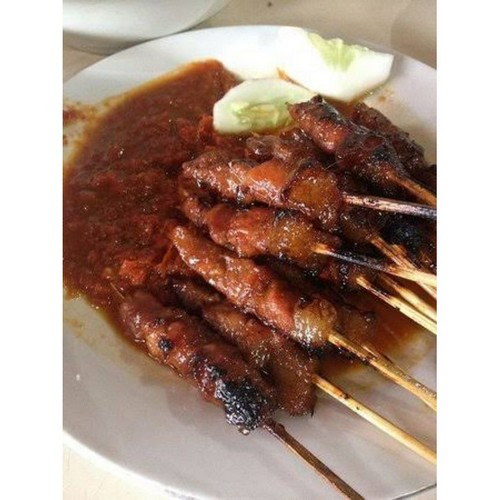sate plecing: (104, 99, 411, 435)
